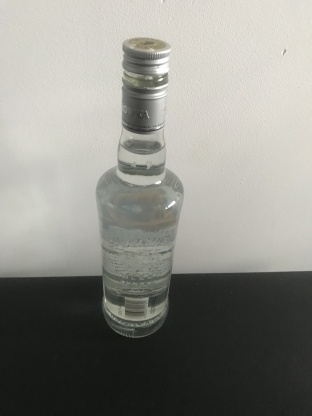nakretka: (119, 34, 172, 135)
